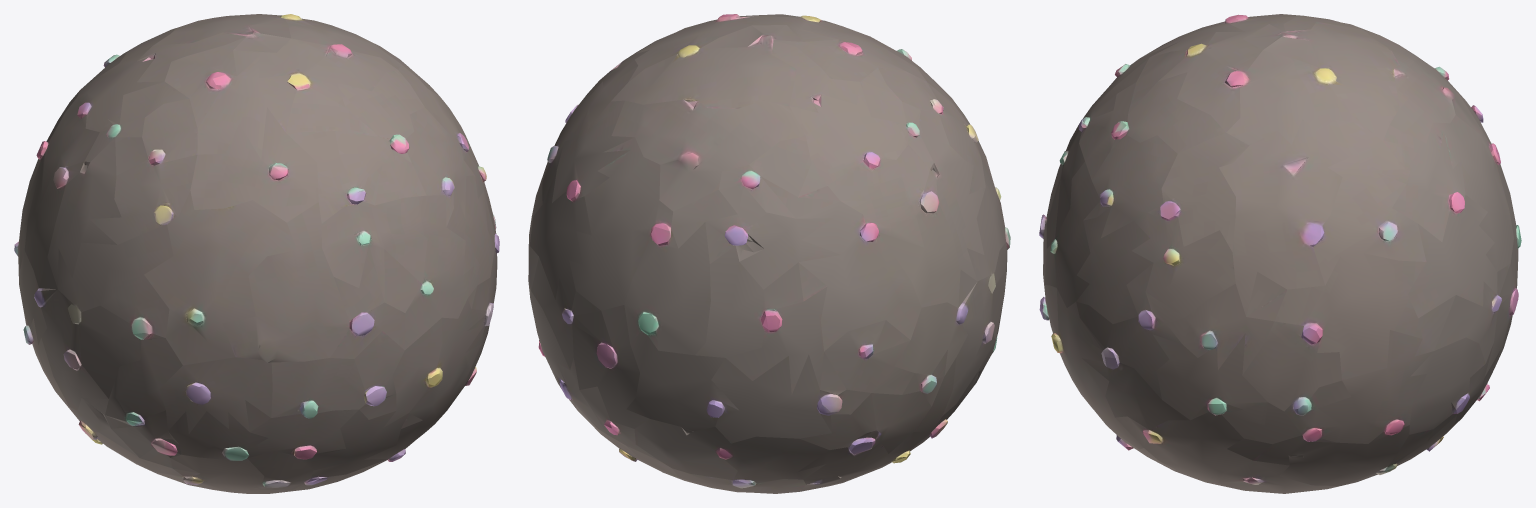
Rendered from boulder.glb.
3 renders of one model, left to right at view 1: azimuth 30°, elevation 25°; view 2: azimuth 150°, elevation 25°; view 3: azimuth 270°, elevation 25°, orthographic.
Bounding box in the file's own units: 1.9 × 1.88 × 1.9.
1 material, 1 textured.
